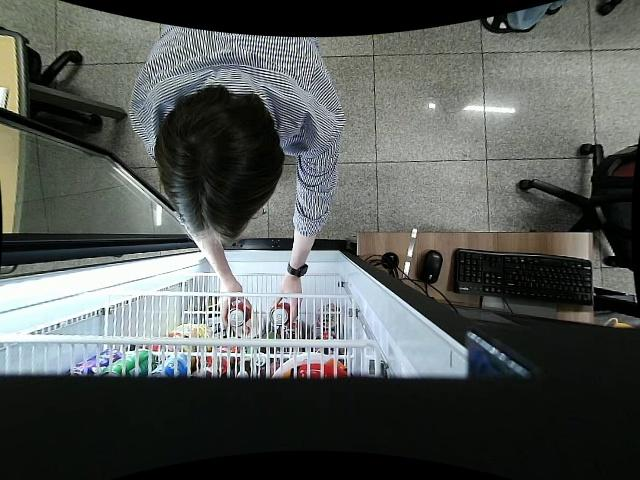00_hand: (218, 281, 250, 331), (272, 281, 303, 329)
11_cocaColaZero: (227, 306, 251, 330), (268, 302, 290, 328)
